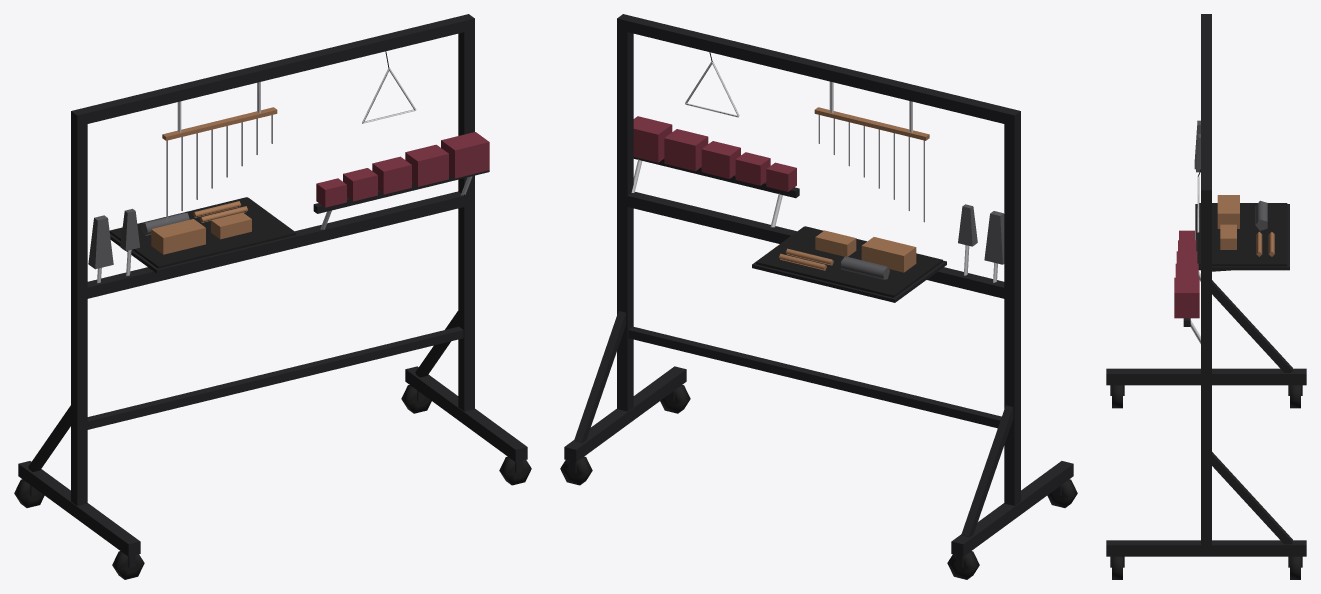
File: aux-rack-accessories-low.glb
3 renders of one model, left to right at view 1: azimuth 30°, elevation 25°; view 2: azimuth 150°, elevation 25°; view 3: azimuth 270°, elevation 25°, orthographic. The views are drawn at different scales.
Parts seen in each view (by area): view 1: frame, shell, rubber, wood, panel, metal; view 2: frame, rubber, shell, wood, panel, metal; view 3: frame, rubber, shell, wood, panel, metal.
Part boxes in pixels (x1,y1,x2,y2): frame: (18, 14, 527, 567); shell: (316, 132, 489, 207); rubber: (14, 51, 531, 579); wood: (151, 107, 277, 254); panel: (88, 208, 189, 269); metal: (97, 68, 472, 283); frame: (564, 14, 1073, 567); rubber: (560, 52, 1077, 579); shell: (633, 116, 796, 191); wood: (779, 107, 929, 272); panel: (841, 204, 1004, 279); metal: (631, 61, 997, 282); frame: (1106, 14, 1306, 567); rubber: (1112, 169, 1300, 579); shell: (1174, 230, 1199, 318); wood: (1217, 195, 1274, 256); panel: (1194, 120, 1267, 230); metal: (1190, 176, 1200, 343).
Size of the model in its own units: 1.56 by 1.54 by 0.72.
